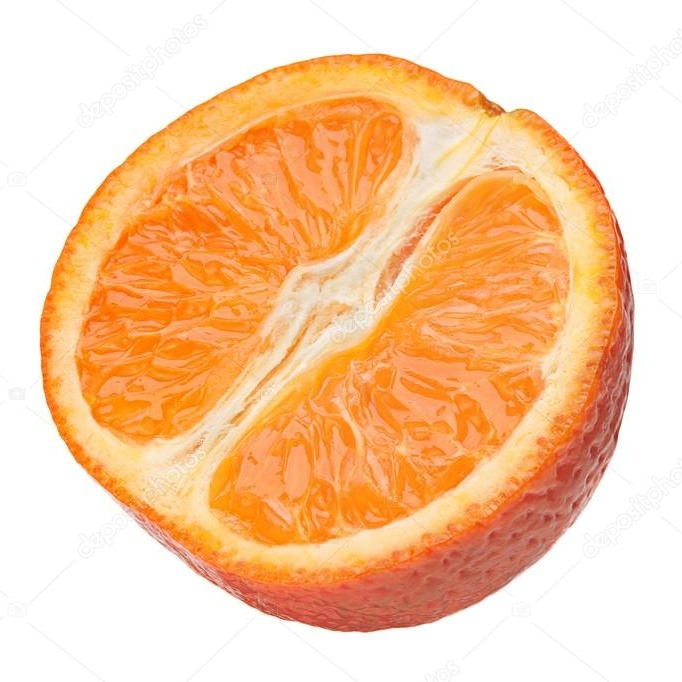mandarin: (42, 56, 634, 626)
